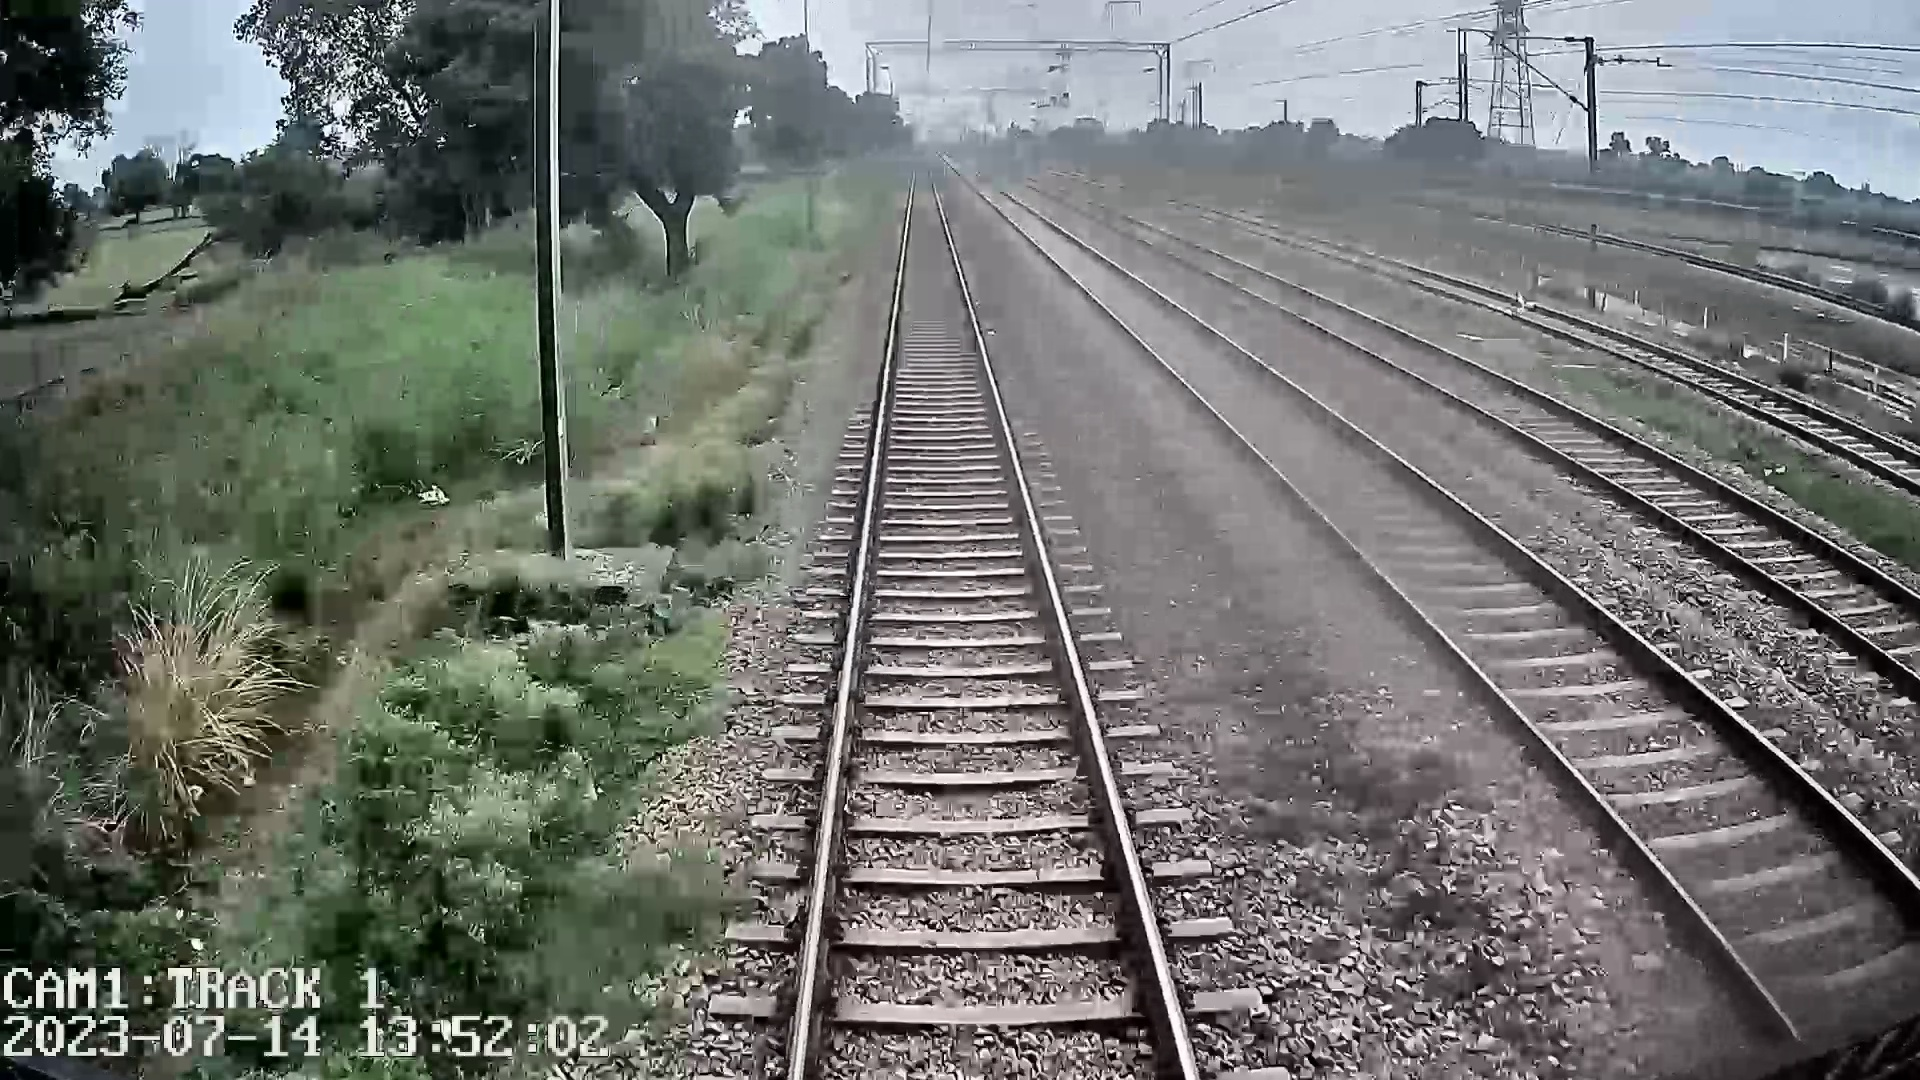track1: (799, 205, 1188, 1065)
track2: (1002, 206, 1914, 985)
track3: (1174, 248, 1917, 670)
track4: (1402, 270, 1911, 480)
